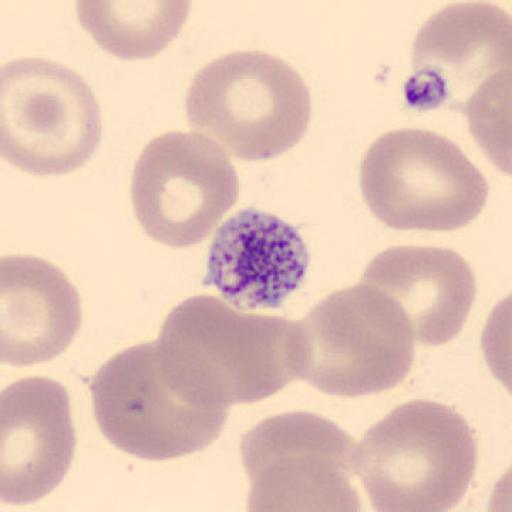Platelet: (201, 206, 315, 310), (398, 64, 452, 115)
RBC: (153, 293, 313, 407), (89, 341, 231, 462), (184, 49, 314, 163), (288, 284, 416, 399), (356, 126, 490, 234), (353, 398, 479, 512), (127, 128, 241, 251), (356, 242, 479, 348), (0, 54, 102, 179), (200, 298, 316, 406), (408, 0, 512, 117), (239, 408, 357, 504), (1, 374, 77, 508), (1, 252, 84, 369), (73, 0, 193, 63), (243, 454, 363, 512), (466, 64, 512, 179), (479, 291, 512, 399), (486, 443, 512, 512), (488, 462, 512, 512)
